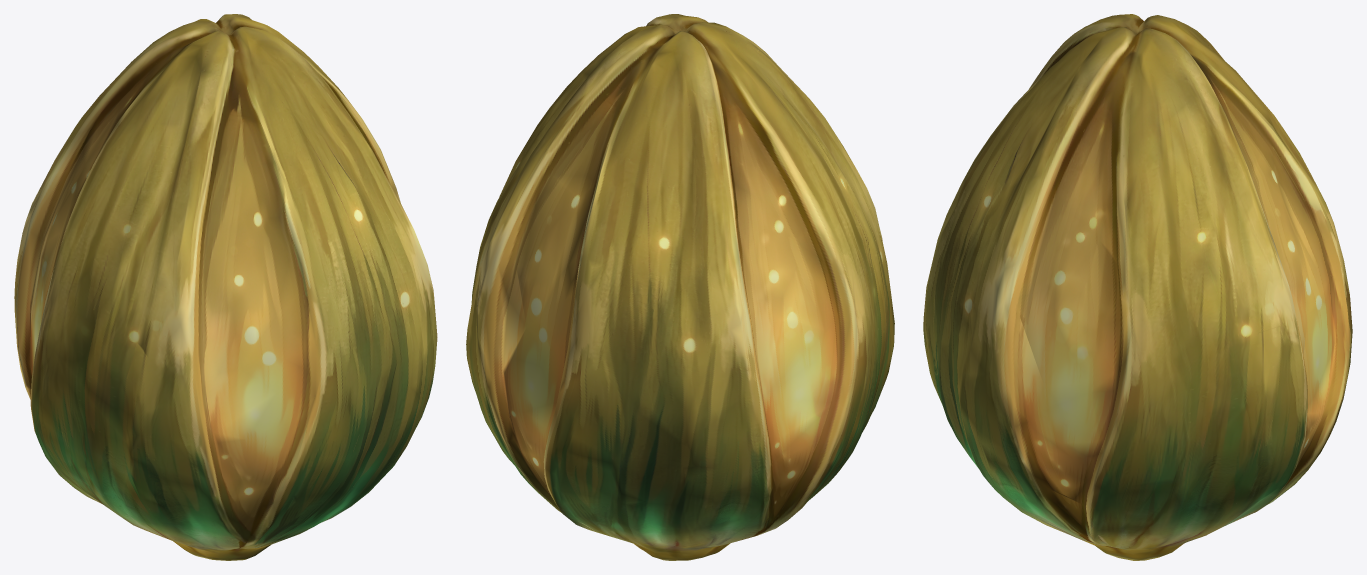
The model's file is Meshy_AI_Golden_Seed_0722082626_texture.glb.
The picture shows the model from 3 angles, left to right: view 1: azimuth 30°, elevation 25°; view 2: azimuth 150°, elevation 25°; view 3: azimuth 270°, elevation 25°; orthographic projection.
Parts seen in each view (by area): view 1: mesh_node; view 2: mesh_node; view 3: mesh_node.
Boxes of the visible parts, left/top/right/bottom form: mesh_node: left=14, top=14, right=437, bottom=560; mesh_node: left=466, top=14, right=894, bottom=560; mesh_node: left=923, top=14, right=1352, bottom=560.
Size of the model in its own units: 1.4 by 1.9 by 1.4.
Materials: 1 (1 with a texture image).
